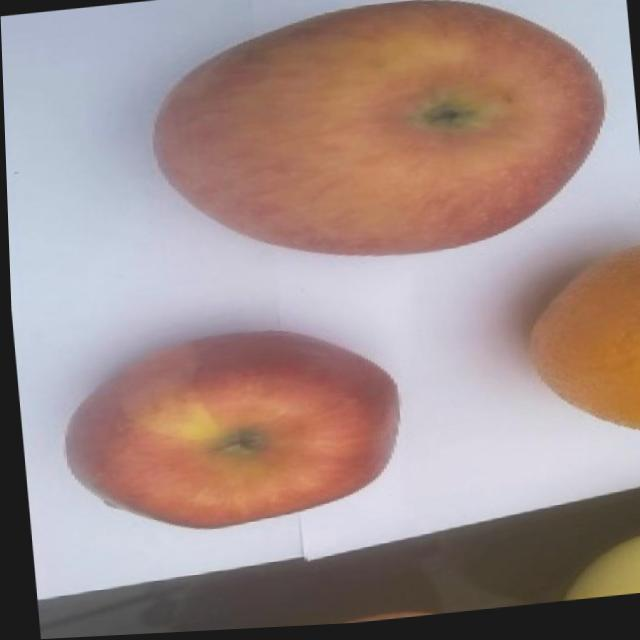Apple: (140, 0, 616, 282), (53, 318, 405, 544), (518, 248, 640, 452)
